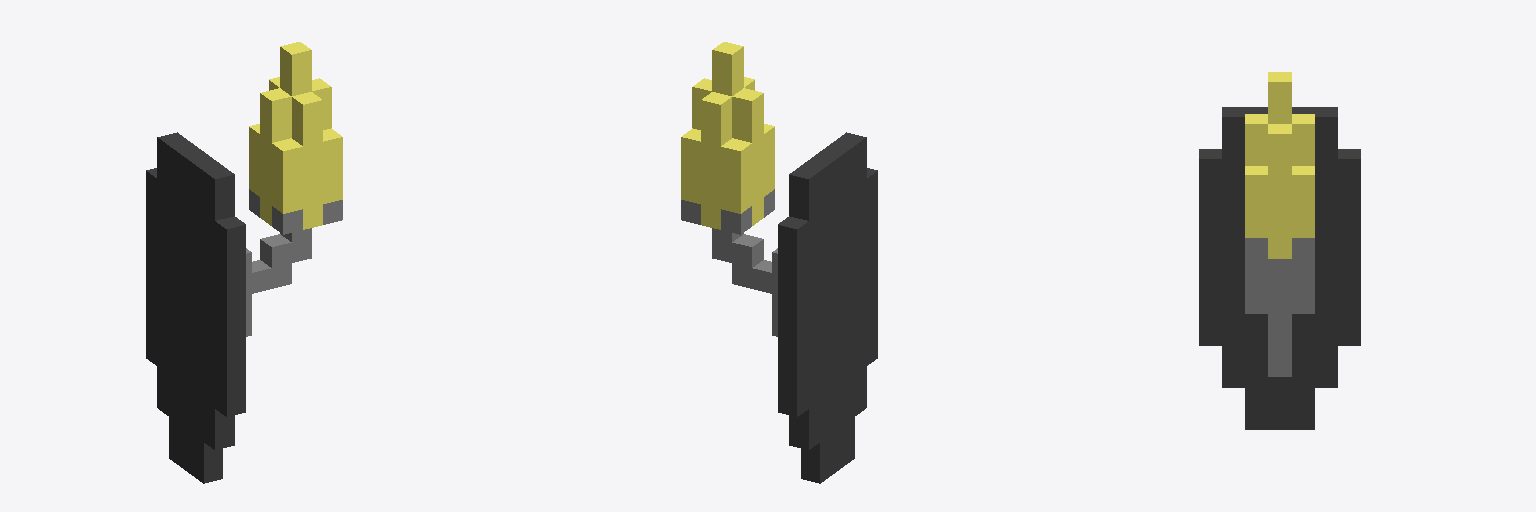
The picture shows the model from 3 angles: view 1: azimuth 30°, elevation 25°; view 2: azimuth 150°, elevation 25°; view 3: azimuth 270°, elevation 25°; orthographic projection.
Parts seen in each view (by area): view 1: object 1; view 2: object 1; view 3: object 1.
Boxes of the visible parts, x1=… form: object 1: x1=146, y1=42, x2=342, y2=483; object 1: x1=681, y1=42, x2=877, y2=483; object 1: x1=1199, y1=72, x2=1360, y2=429.
Size of the model in its own units: 0.7 by 1.9 by 0.7.
1 materials, 1 textured.